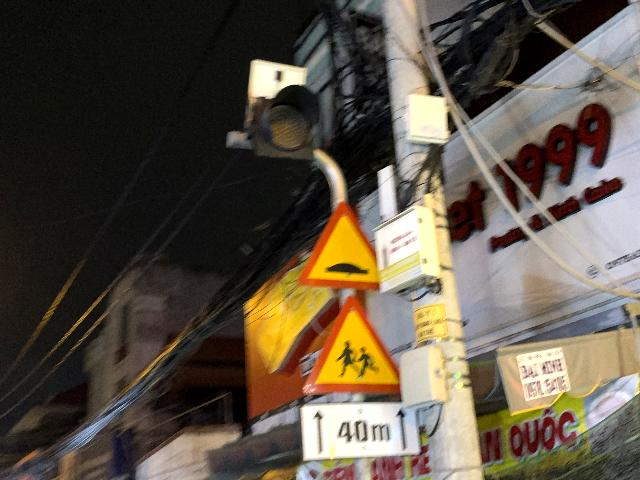duong-co-go-giam-toc: (299, 202, 380, 290)
tre-em-qua-duong: (301, 295, 400, 394)
